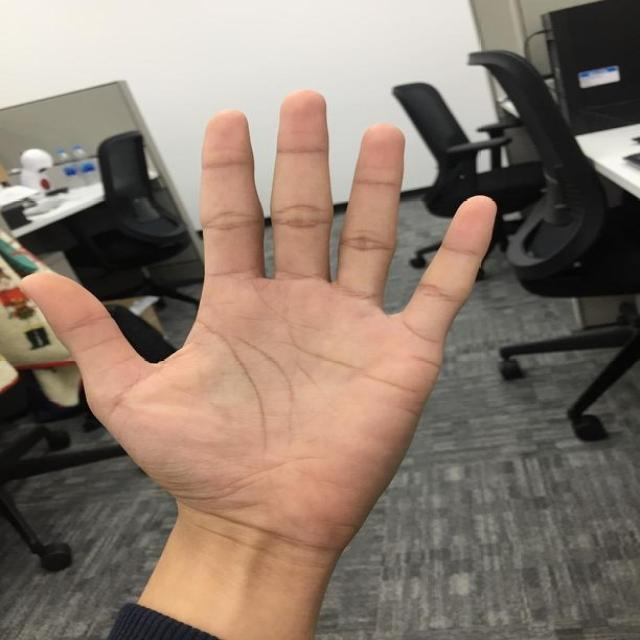no-gloves: (19, 88, 500, 547)
